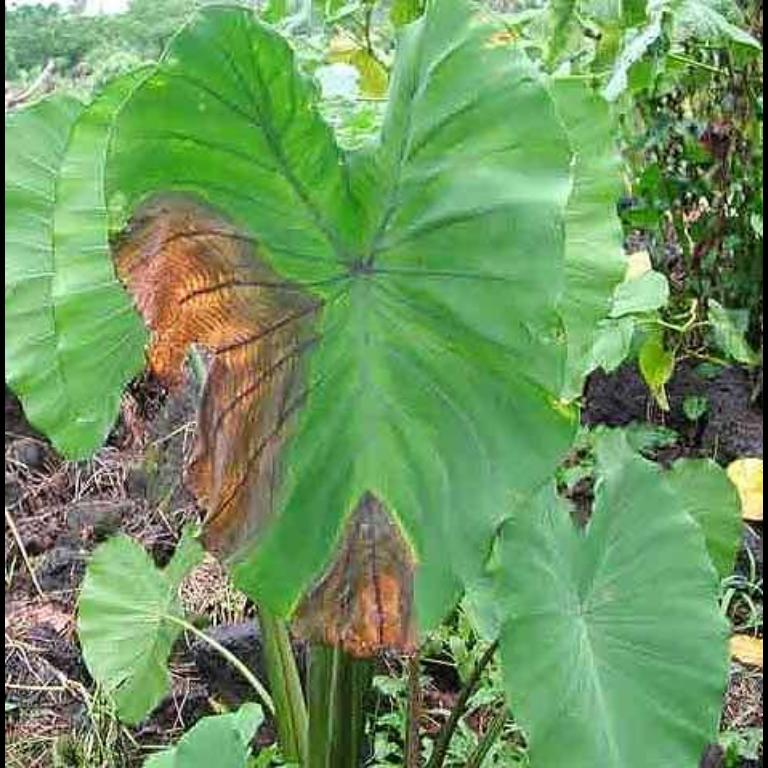blight: (108, 187, 336, 519), (304, 473, 433, 661)
